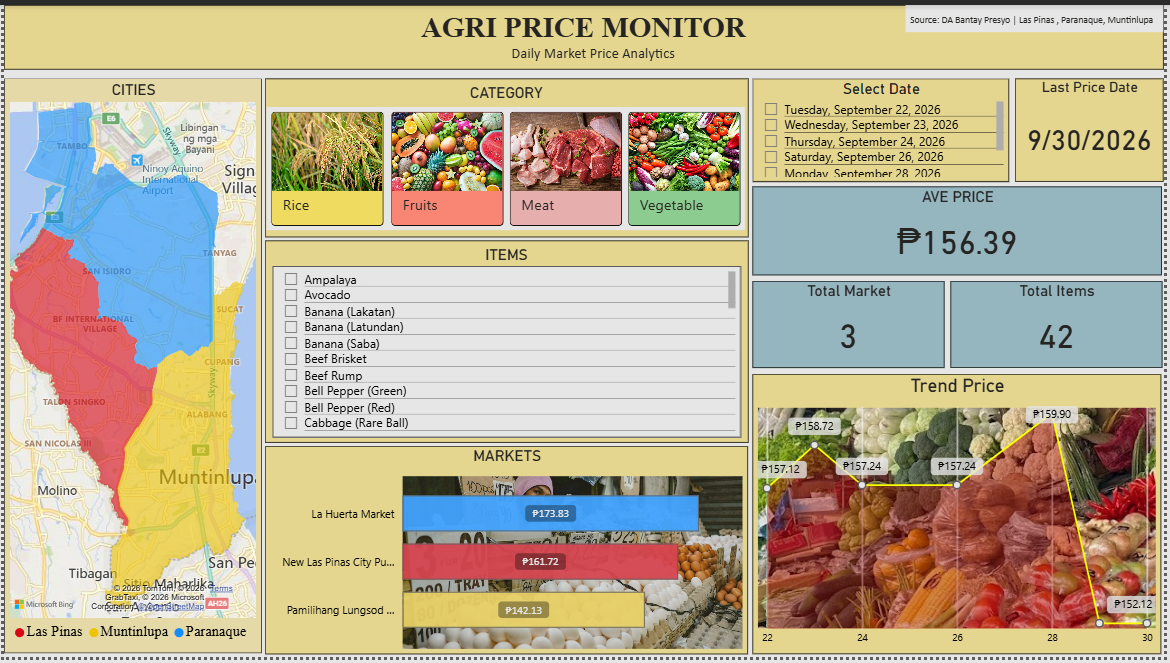

What the dashboard file says about the page in this screenshot:
{"tool":"powerbi","page":{"name":"Market Price Overview","canvas":[1280,720],"ordinal":0},"visuals":[{"type":"textbox","box":[288,260,534,223],"z":0},{"type":"textbox","box":[0,0,1280.5,71.2],"z":1000},{"type":"textbox","box":[995.5,0,284.9,29.8],"z":2000},{"type":"card","title":"AVE PRICE","fields":{"Values":["agriproject_db vw_price_analysis.Average Price"]},"box":[826.6,200.4,452.2,97.7],"z":3000},{"type":"card","title":"Total Items ","fields":{"Values":["agriproject_db vw_price_analysis.Items Covered"]},"box":[1044.7,304.9,234.1,95.9],"z":4000},{"type":"card","title":"Total Market","fields":{"Values":["agriproject_db vw_price_analysis.Markets covered"]},"box":[826.6,304.8,212,96.1],"z":5000},{"type":"card","title":"Last Price Date","fields":{"Values":["agriproject_db vw_price_analysis.Lates Price Date"]},"box":[1116.5,81.2,164,114.3],"z":6000},{"type":"slicer","title":"Select Date","fields":{"Values":["agriproject_db vw_price_analysis.price_date"]},"box":[826.6,81.2,283.3,114.3],"z":7000},{"type":"slicer","title":"ITEMS","fields":{"Values":["agriproject_db vw_price_analysis.item_name"]},"box":[297,288,517,189],"z":8000},{"type":"filledMap","title":"CITIES","fields":{"Category":["agriproject_db vw_price_analysis.city_name"],"Series":["agriproject_db vw_price_analysis.city_name"]},"box":[0,81.2,284.9,634.4],"z":9000},{"type":"lineChart","title":"Trend Price","fields":{"Y":["agriproject_db vw_price_analysis.Average Price"],"Category":["agriproject_db vw_price_analysis.price_date.Variation.Date Hierarchy.Year","agriproject_db vw_price_analysis.price_date.Variation.Date Hierarchy.Quarter","agriproject_db vw_price_analysis.price_date.Variation.Date Hierarchy.Month","agriproject_db vw_price_analysis.price_date.Variation.Date Hierarchy.Day"]},"box":[826.8,408.2,451.5,309.3],"z":10000},{"type":"barChart","title":"MARKETS","fields":{"Category":["agriproject_db vw_price_analysis.market_name"],"Y":["agriproject_db vw_price_analysis.Average Price"]},"box":[288.2,487,533.4,230.3],"z":11000},{"type":"textbox","box":[288,81,534,175],"z":12000},{"type":"advancedSlicerVisual","fields":{"Values":["agriproject_db vw_price_analysis.category_name"]},"box":[422.1,112.1,134,136],"z":13000},{"type":"advancedSlicerVisual","fields":{"Values":["agriproject_db vw_price_analysis.category_name"]},"box":[553.1,112.1,134,136],"z":14000},{"type":"advancedSlicerVisual","fields":{"Values":["agriproject_db vw_price_analysis.category_name"]},"box":[290.1,112.1,134,136],"z":15000},{"type":"advancedSlicerVisual","fields":{"Values":["agriproject_db vw_price_analysis.category_name"]},"box":[684.1,112.1,134,136],"z":16000}]}

Visuals, with their boxes in screenshot pixels (x1, y1, x2, y2), scaled from the page's 1280x720 canvas onto the 1170x663 screenshot:
textbox: {"x1": 263, "y1": 239, "x2": 751, "y2": 445}
textbox: {"x1": 0, "y1": 0, "x2": 1169, "y2": 66}
textbox: {"x1": 910, "y1": 0, "x2": 1169, "y2": 27}
"AVE PRICE" card: {"x1": 756, "y1": 185, "x2": 1169, "y2": 275}
"Total Items " card: {"x1": 955, "y1": 281, "x2": 1169, "y2": 369}
"Total Market" card: {"x1": 756, "y1": 281, "x2": 949, "y2": 369}
"Last Price Date" card: {"x1": 1021, "y1": 75, "x2": 1169, "y2": 180}
"Select Date" slicer: {"x1": 756, "y1": 75, "x2": 1015, "y2": 180}
"ITEMS" slicer: {"x1": 271, "y1": 265, "x2": 744, "y2": 439}
"CITIES" filledMap: {"x1": 0, "y1": 75, "x2": 260, "y2": 659}
"Trend Price" lineChart: {"x1": 756, "y1": 376, "x2": 1168, "y2": 661}
"MARKETS" barChart: {"x1": 263, "y1": 448, "x2": 751, "y2": 661}
textbox: {"x1": 263, "y1": 75, "x2": 751, "y2": 236}
advancedSlicerVisual - agriproject_db vw_price_analysis.category_name: {"x1": 386, "y1": 103, "x2": 508, "y2": 228}
advancedSlicerVisual - agriproject_db vw_price_analysis.category_name: {"x1": 506, "y1": 103, "x2": 628, "y2": 228}
advancedSlicerVisual - agriproject_db vw_price_analysis.category_name: {"x1": 265, "y1": 103, "x2": 388, "y2": 228}
advancedSlicerVisual - agriproject_db vw_price_analysis.category_name: {"x1": 625, "y1": 103, "x2": 748, "y2": 228}
